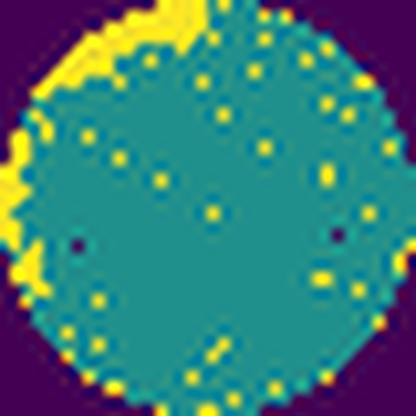Edge-Loc: (29, 0, 214, 101), (0, 127, 53, 312)
